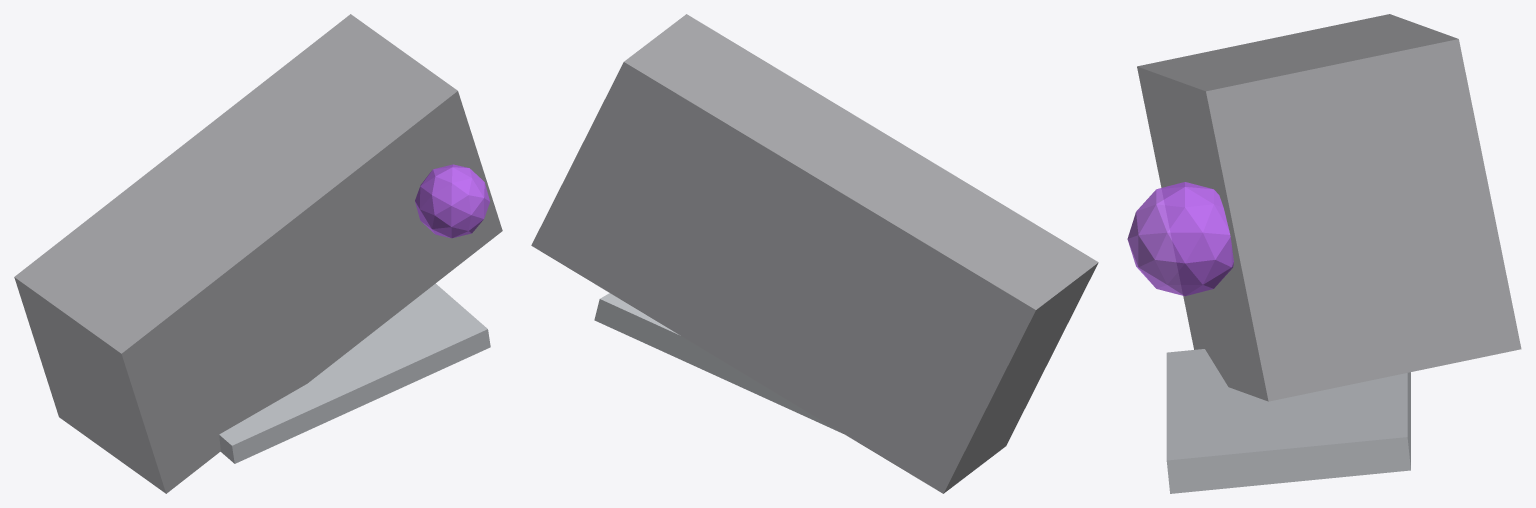
The model's file is cosmic_orbital_debris.glb.
3 renders of one model, left to right at view 1: azimuth 30°, elevation 25°; view 2: azimuth 150°, elevation 25°; view 3: azimuth 270°, elevation 25°, orthographic. The views are drawn at different scales.
Visible parts, largest first — view 1: chunk, panel, purple_spark; view 2: chunk, panel; view 3: chunk, panel, purple_spark.
Part boxes in pixels (x1,y1,x2,y2): chunk: (14,14,502,493); panel: (219,283,490,463); purple_spark: (415,164,489,238); chunk: (531,14,1098,493); panel: (594,293,843,433); chunk: (1137,14,1521,401); panel: (1166,349,1410,493); purple_spark: (1127,182,1233,296).
Size of the model in its own units: 1.37 by 1.03 by 0.6837.
